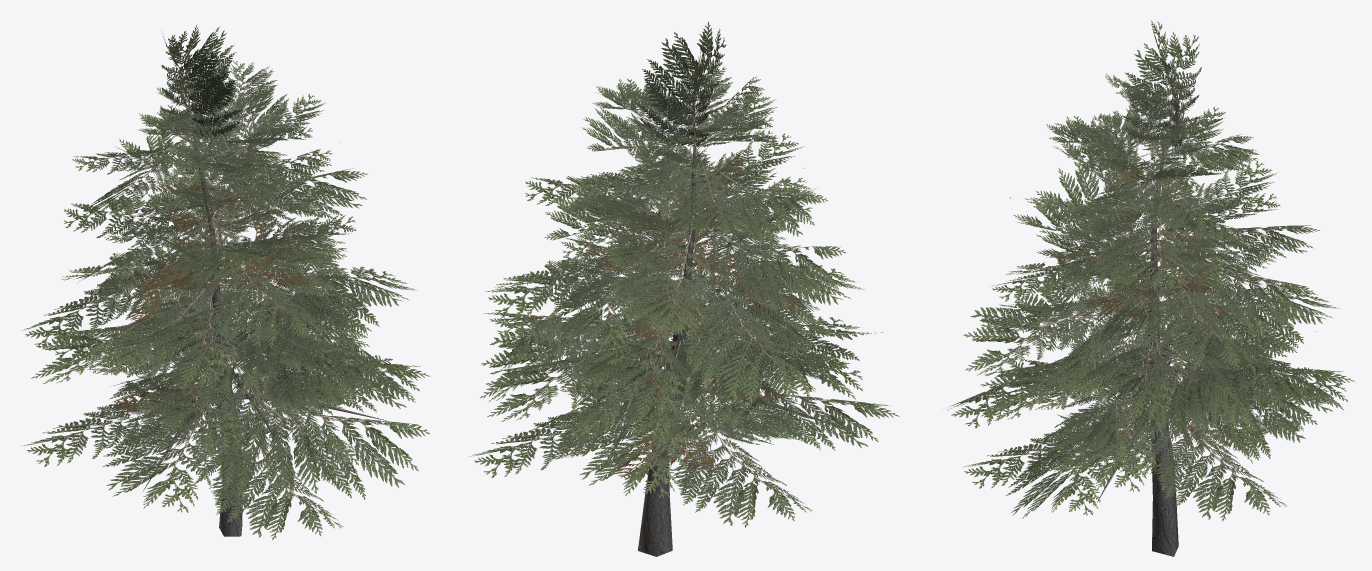
Rendered from cedro2.glb.
3 views of the same model, side by side, from view 1: azimuth 30°, elevation 25°; view 2: azimuth 150°, elevation 25°; view 3: azimuth 270°, elevation 25° (orthographic). The views are drawn at different scales.
Visible parts, largest first — view 1: models\foliage\cedar_02.vmdl_c.cedar_02; view 2: models\foliage\cedar_02.vmdl_c.cedar_02; view 3: models\foliage\cedar_02.vmdl_c.cedar_02.
Part boxes in pixels (left/top/right/bottom): models\foliage\cedar_02.vmdl_c.cedar_02: left=21, top=24, right=430, bottom=539; models\foliage\cedar_02.vmdl_c.cedar_02: left=469, top=21, right=899, bottom=556; models\foliage\cedar_02.vmdl_c.cedar_02: left=947, top=21, right=1354, bottom=556.
Size of the model in its own units: 2.48 by 3.26 by 2.44.
2 materials, 2 textured.
